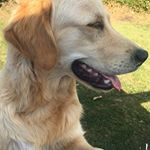puppy: (1, 2, 121, 149), (1, 1, 149, 109)
